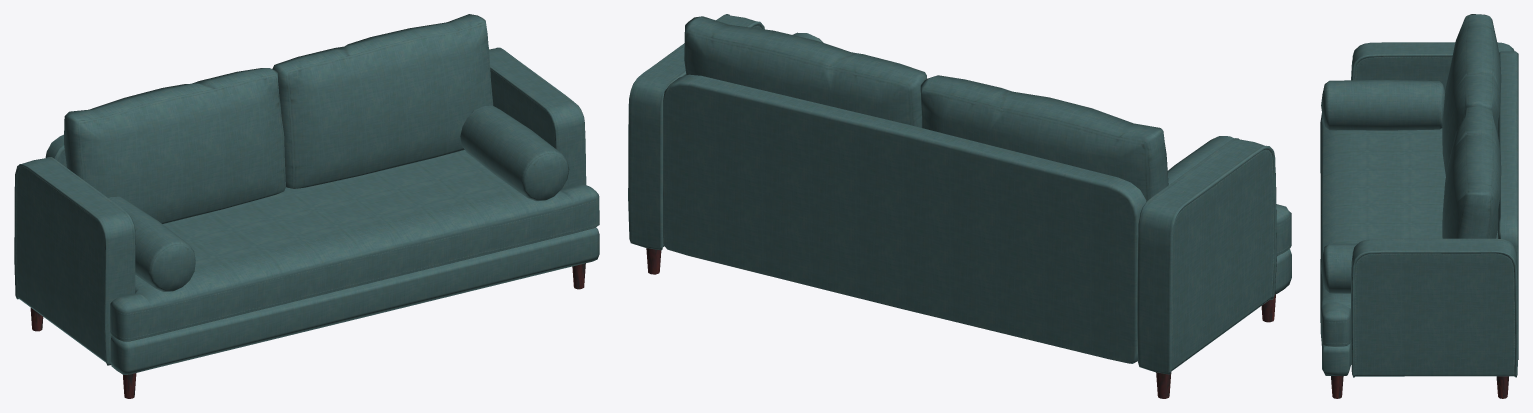
File: couch.glb
3 renders of one model, left to right at view 1: azimuth 30°, elevation 25°; view 2: azimuth 150°, elevation 25°; view 3: azimuth 270°, elevation 25°, orthographic. The views are drawn at different scales.
Parts seen in each view (by area): view 1: sofa; view 2: sofa; view 3: sofa.
Boxes of the visible parts, x1,y1,x2,y2 form: sofa: (14, 14, 599, 398); sofa: (628, 14, 1291, 398); sofa: (1320, 14, 1518, 398).
Size of the model in its own units: 2.53 by 1.1 by 1.01.
1 material, 1 textured.
